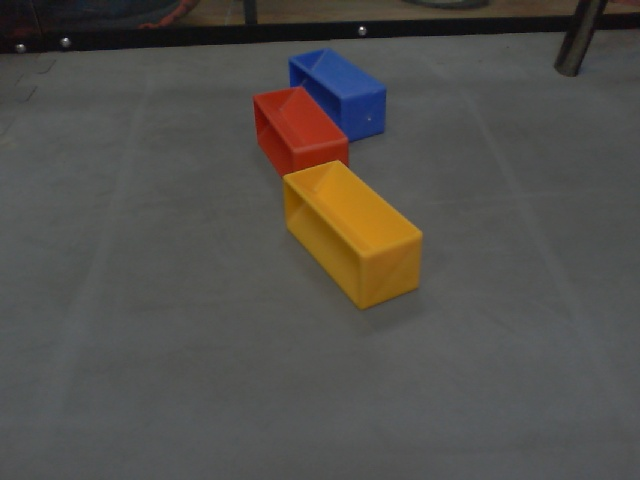BlueSample: (286, 46, 389, 140)
RedSample: (251, 84, 352, 189)
YellowSample: (282, 156, 425, 316)
